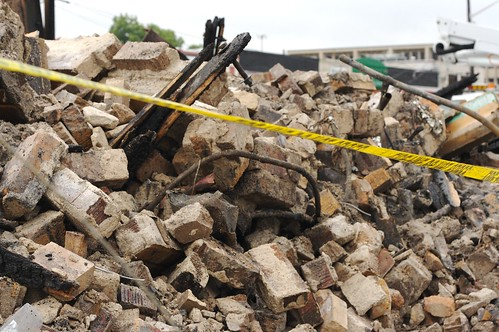debris: (6, 25, 499, 332)
